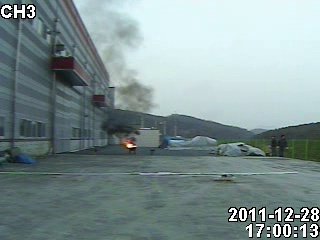fire: (122, 134, 139, 150)
